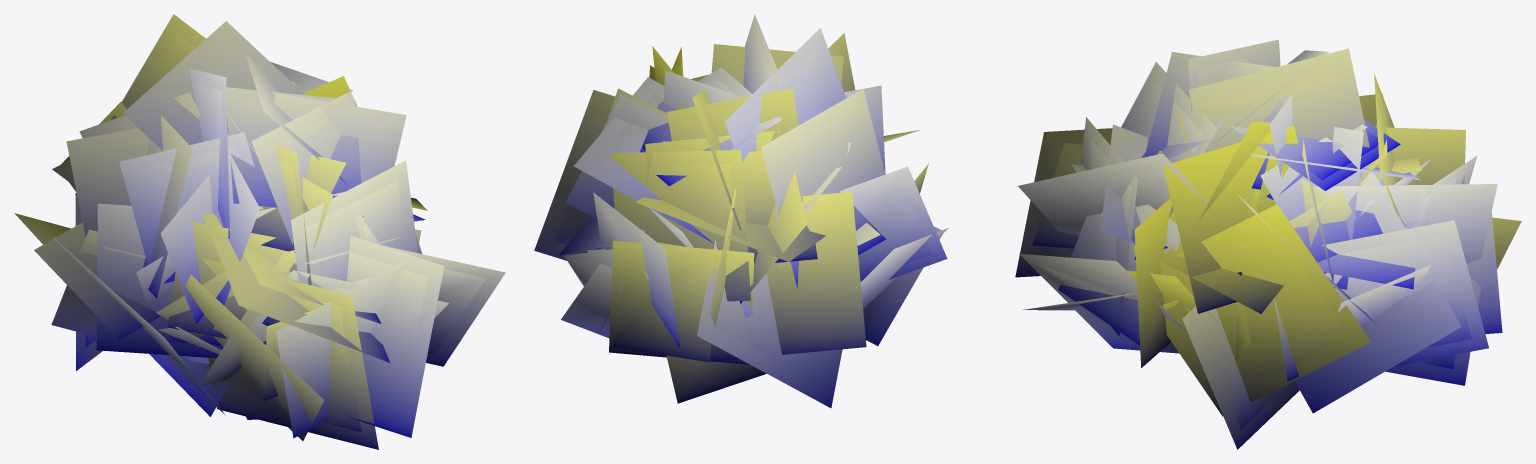
3 renders of one model, left to right at view 1: azimuth 30°, elevation 25°; view 2: azimuth 150°, elevation 25°; view 3: azimuth 270°, elevation 25°, orthographic. The views are drawn at different scales.
Parts seen in each view (by area): view 1: Bush_Medium_LOD0, Bush_Medium; view 2: Bush_Medium_LOD0, Bush_Medium; view 3: Bush_Medium_LOD0, Bush_Medium.
Part boxes in pixels (left/top/right/bottom): Bush_Medium_LOD0: left=14, top=14, right=505, bottom=449; Bush_Medium: left=31, top=33, right=486, bottom=431; Bush_Medium_LOD0: left=534, top=14, right=948, bottom=407; Bush_Medium: left=555, top=29, right=942, bottom=403; Bush_Medium_LOD0: left=1015, top=39, right=1521, bottom=449; Bush_Medium: left=1023, top=52, right=1502, bottom=429.
Bounding box in the file's own units: 1.76 × 1.66 × 2.31.
